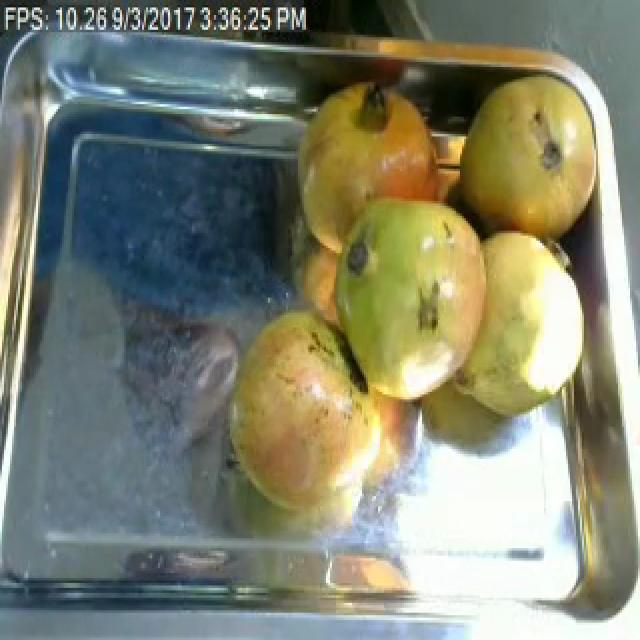fruit: (314, 181, 508, 429), (212, 293, 400, 543), (444, 218, 598, 434), (448, 64, 610, 258), (284, 72, 456, 221)
